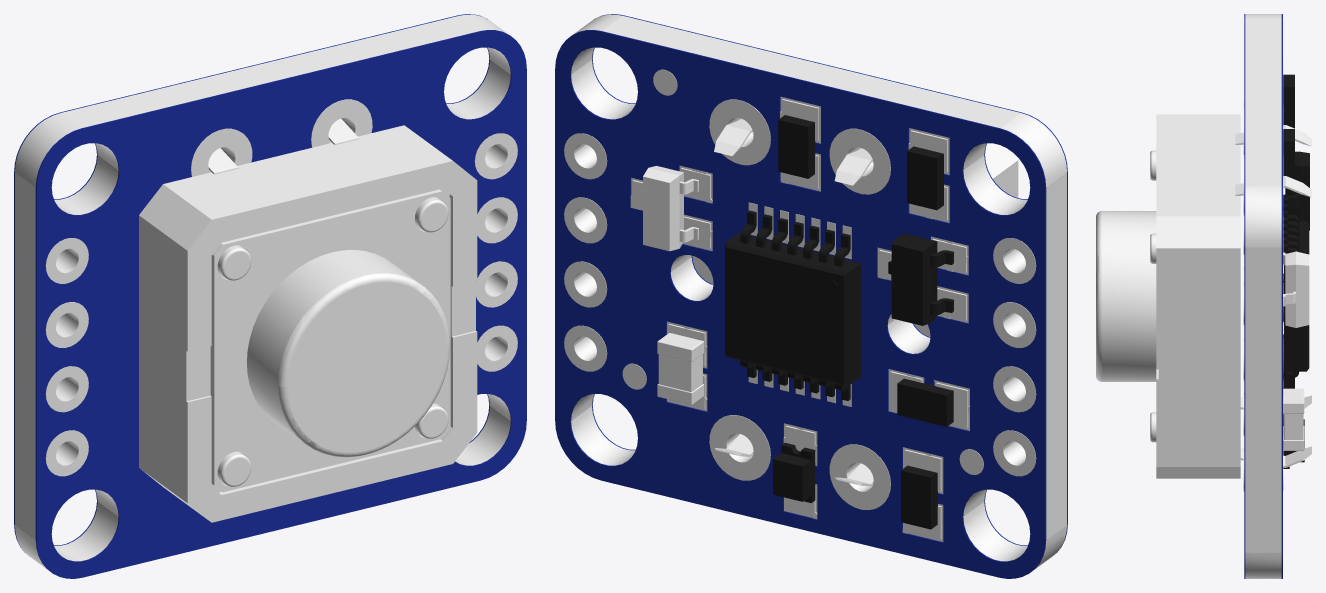
File: 1400 Push Button Power Switch.glb
3 views of the same model, side by side, from view 1: azimuth 30°, elevation 25°; view 2: azimuth 150°, elevation 25°; view 3: azimuth 270°, elevation 25° (orthographic). The views are drawn at different scales.
Parts seen in each view (by area): view 1: Power Switch, Soldermask (Top), Soldermask (Bottom); view 2: Soldermask (Bottom), Power Switch, 35746670.f3d, R0805-3D (×4), SOT23-BEC-3D, CHIP-LED0805, Soldermask (Top); view 3: Power Switch, 35746670.f3d, R0805-3D (×2), SOT23-BEC-3D, Soldermask (Bottom), Soldermask (Top).
Boxes of the visible parts, x1,y1,x2,y2 form: Power Switch: (15, 14, 517, 570); Soldermask (Top): (35, 30, 526, 578); Soldermask (Bottom): (14, 14, 489, 552); Soldermask (Bottom): (555, 30, 1046, 578); Power Switch: (564, 14, 1066, 570); 35746670.f3d: (725, 210, 860, 400); R0805-3D (×4): (778, 115, 953, 529); SOT23-BEC-3D: (888, 234, 953, 325); CHIP-LED0805: (773, 442, 815, 502); Soldermask (Top): (592, 14, 1067, 552); Power Switch: (1096, 14, 1311, 578); 35746670.f3d: (1283, 204, 1309, 388); R0805-3D (×2): (1283, 74, 1294, 179); SOT23-BEC-3D: (1283, 151, 1309, 230); Soldermask (Bottom): (1281, 14, 1282, 578); Soldermask (Top): (1244, 14, 1245, 578).
Bounding box in the file's own units: 20.32 × 17.78 × 8.96.
